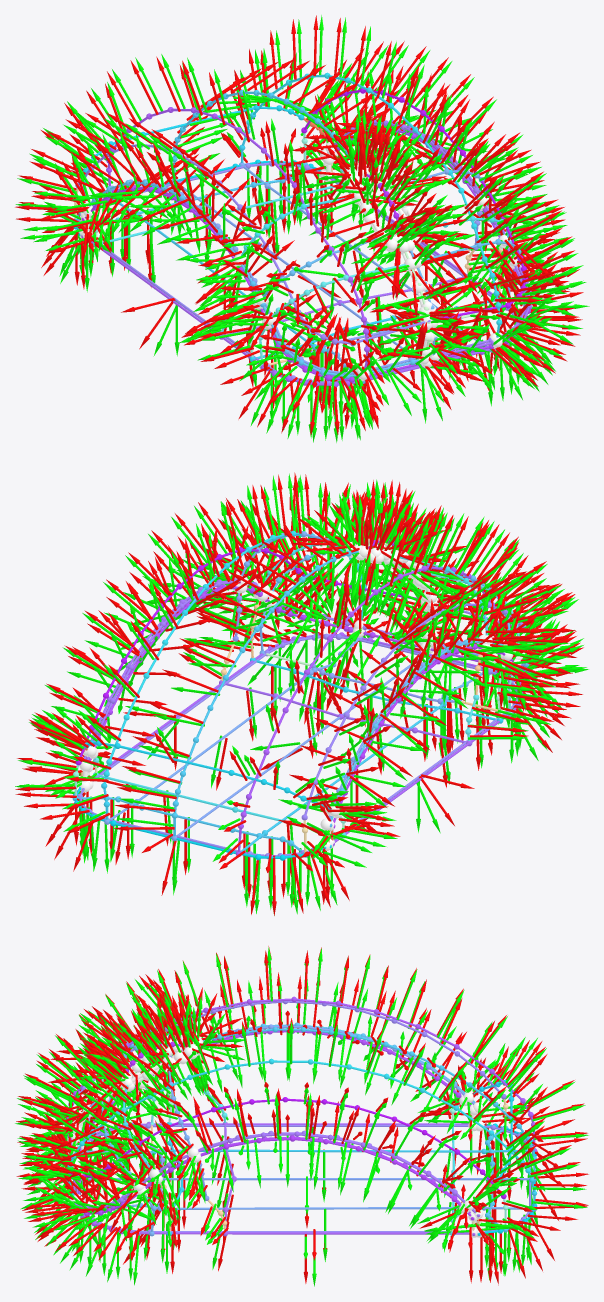
The model's file is flowrep_mouse.gltf.
The picture shows the model from 3 angles, top to bottom: view 1: azimuth 30°, elevation 25°; view 2: azimuth 150°, elevation 25°; view 3: azimuth 270°, elevation 25°; orthographic projection. The views are drawn at different scales.
Size of the model in its own units: 0.6629 by 0.4918 by 1.03.
